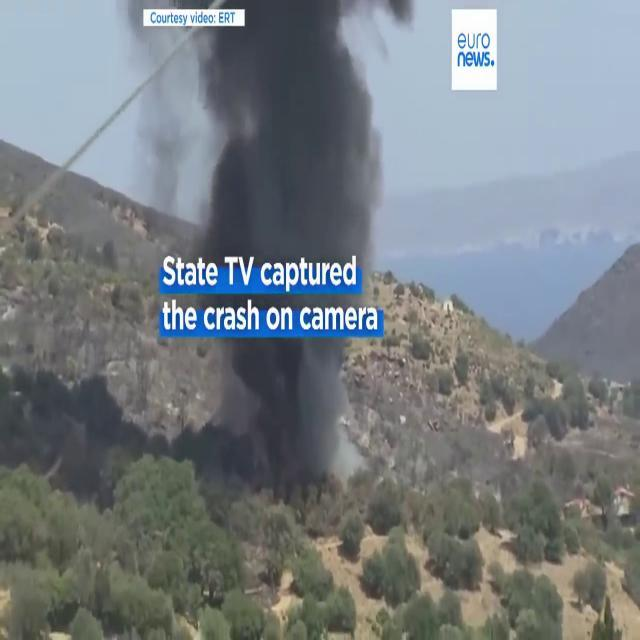Smoke: (172, 0, 391, 277), (197, 338, 360, 517)
